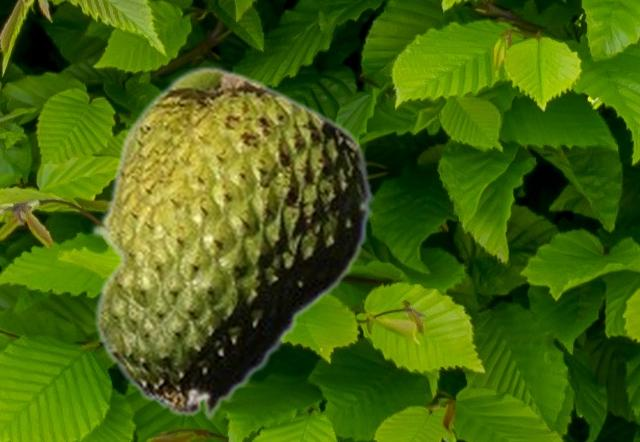guyabano: (90, 65, 373, 421)
